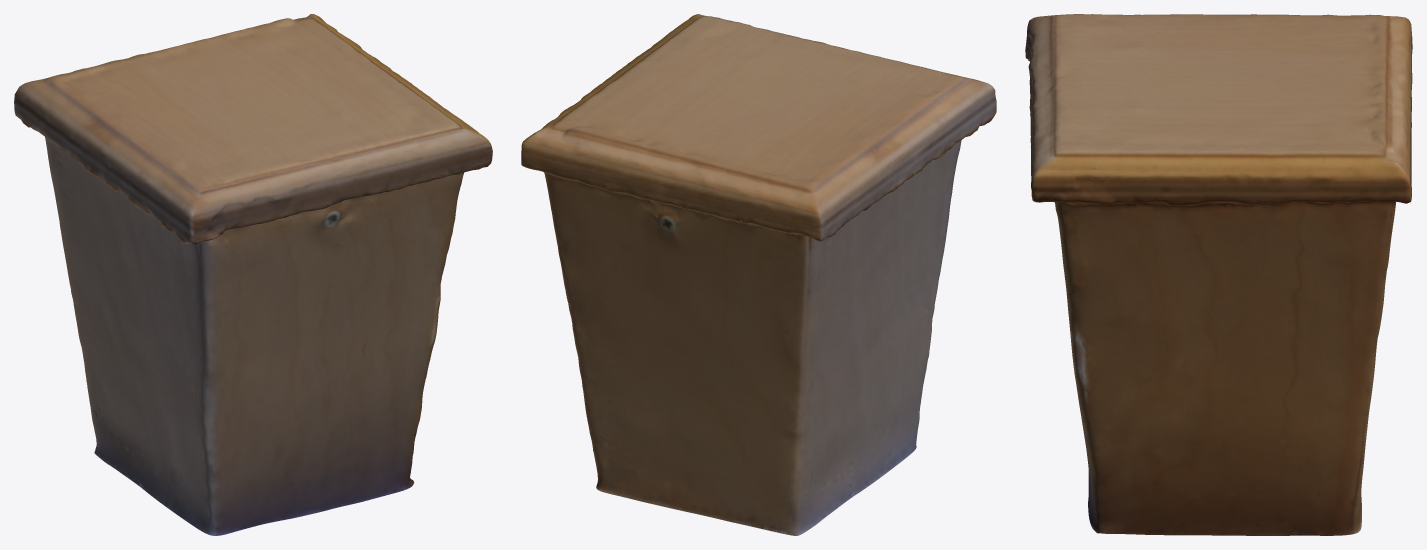
Rendered from Urn.fbx.
The picture shows the model from 3 angles, left to right: view 1: azimuth 30°, elevation 25°; view 2: azimuth 150°, elevation 25°; view 3: azimuth 270°, elevation 25°; orthographic projection. The views are drawn at different scales.
Visible parts, largest first — view 1: Urn; view 2: Urn; view 3: Urn.
Boxes of the visible parts, <box> form: Urn: <box>14,14,492,535</box>; Urn: <box>521,14,996,535</box>; Urn: <box>1025,14,1412,535</box>.
Size of the model in its own units: 9.69 by 11.27 by 9.83.
